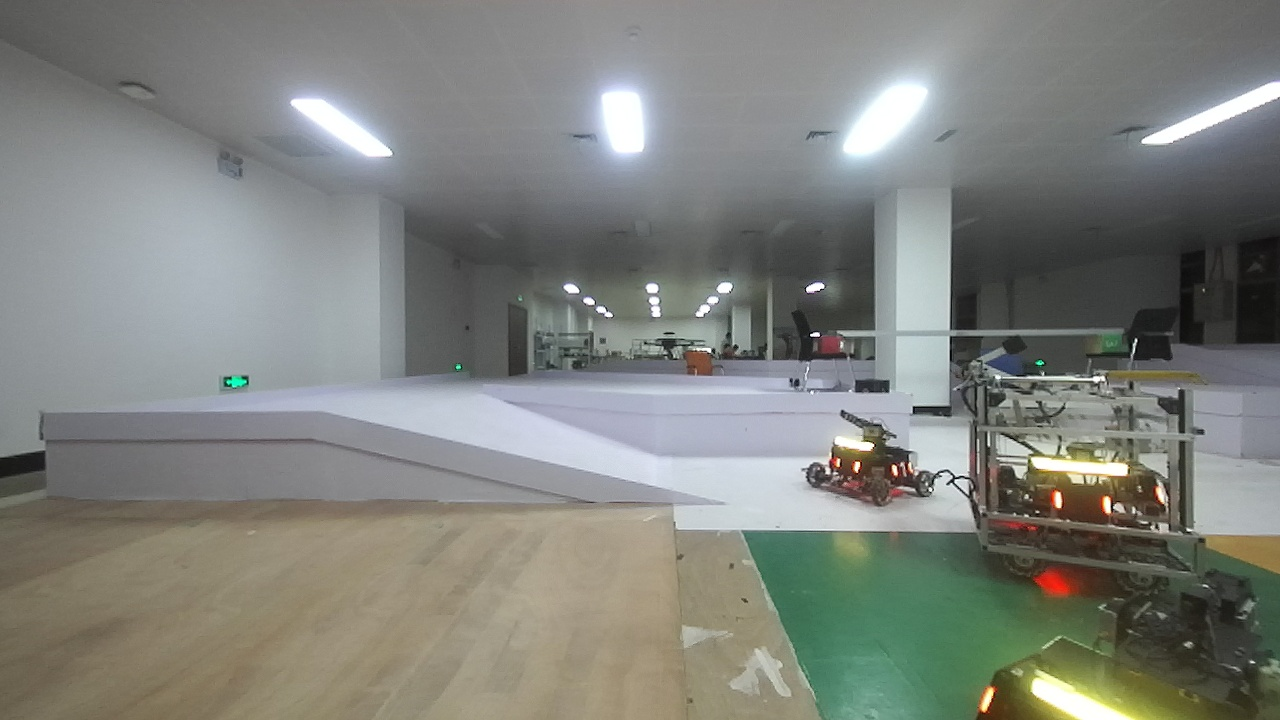car: (941, 339, 1212, 589), (955, 559, 1280, 720), (779, 401, 949, 515)
